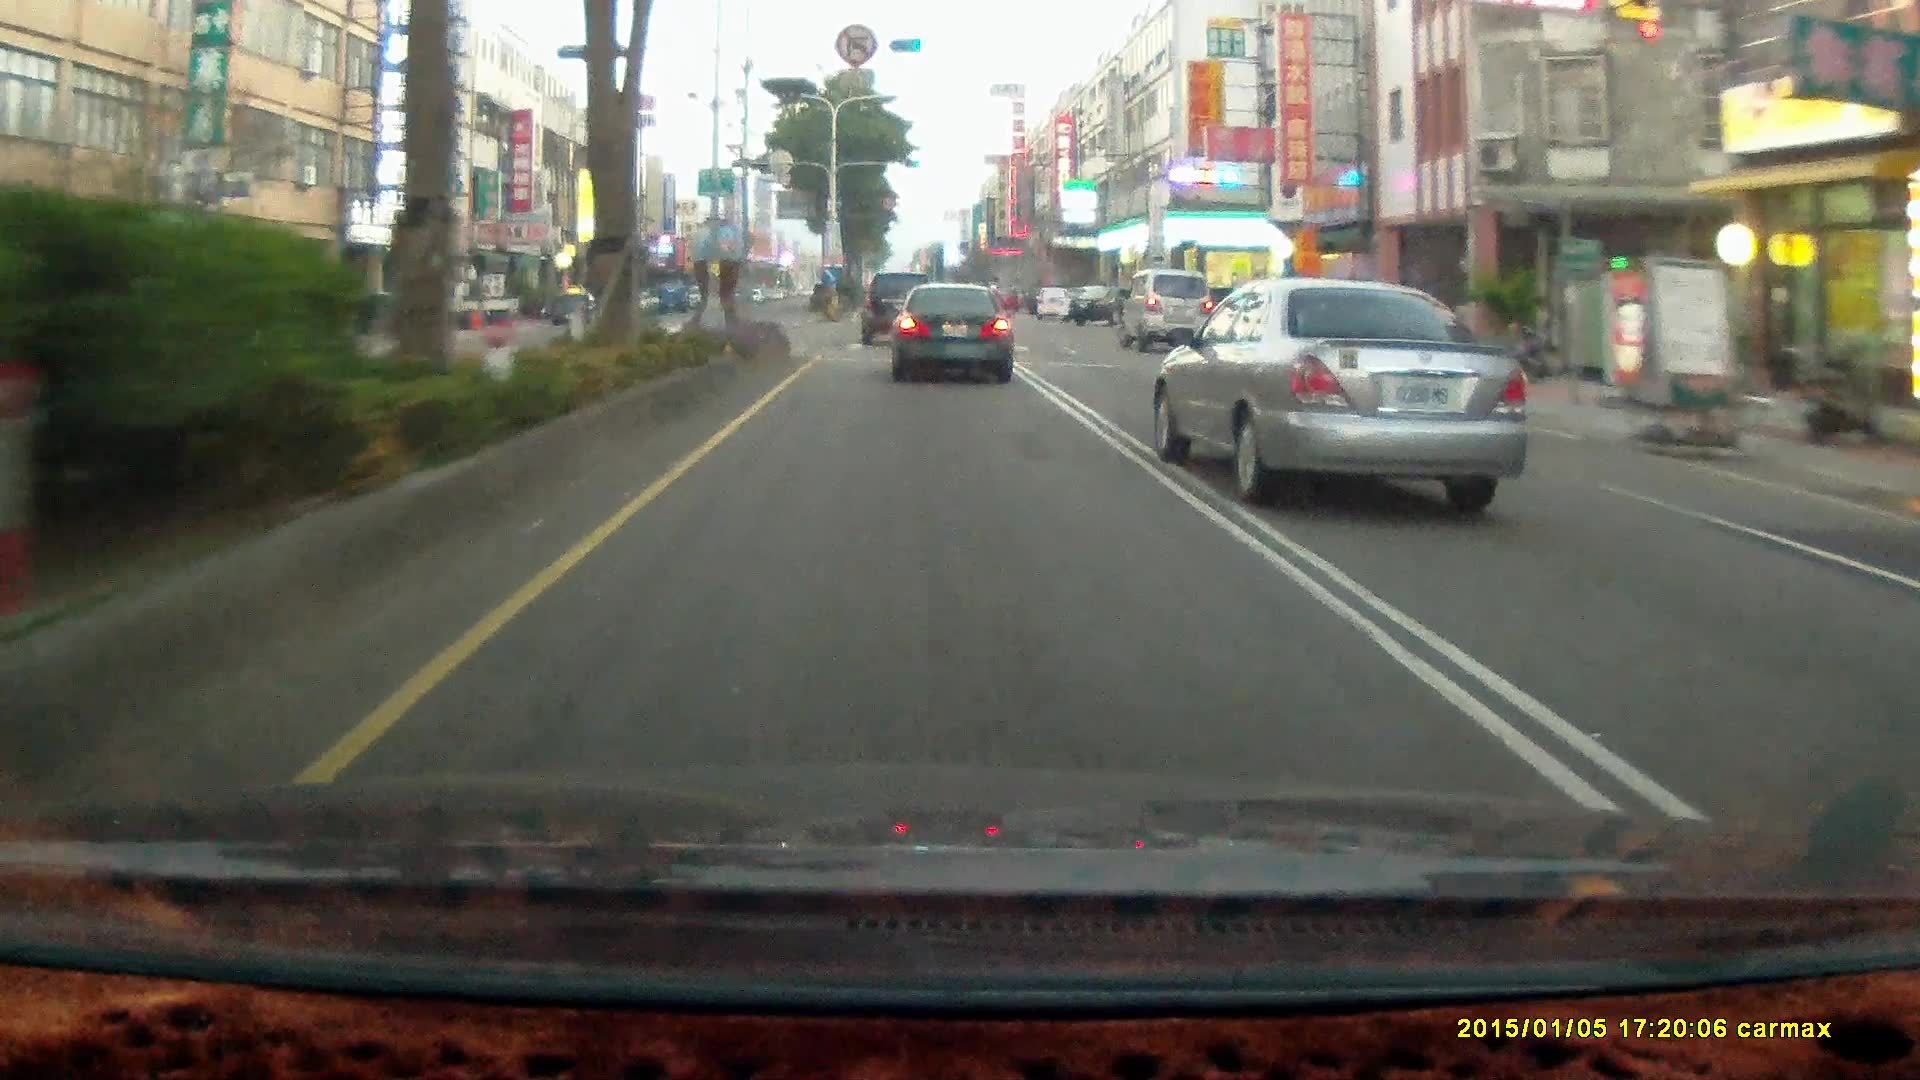vehicle: (1156, 282, 1544, 510), (895, 284, 1017, 386), (891, 284, 1011, 385), (1120, 269, 1215, 357), (1120, 268, 1213, 355), (861, 272, 940, 349), (861, 272, 938, 344), (430, 277, 520, 326), (1069, 284, 1139, 324), (1034, 286, 1073, 319)
